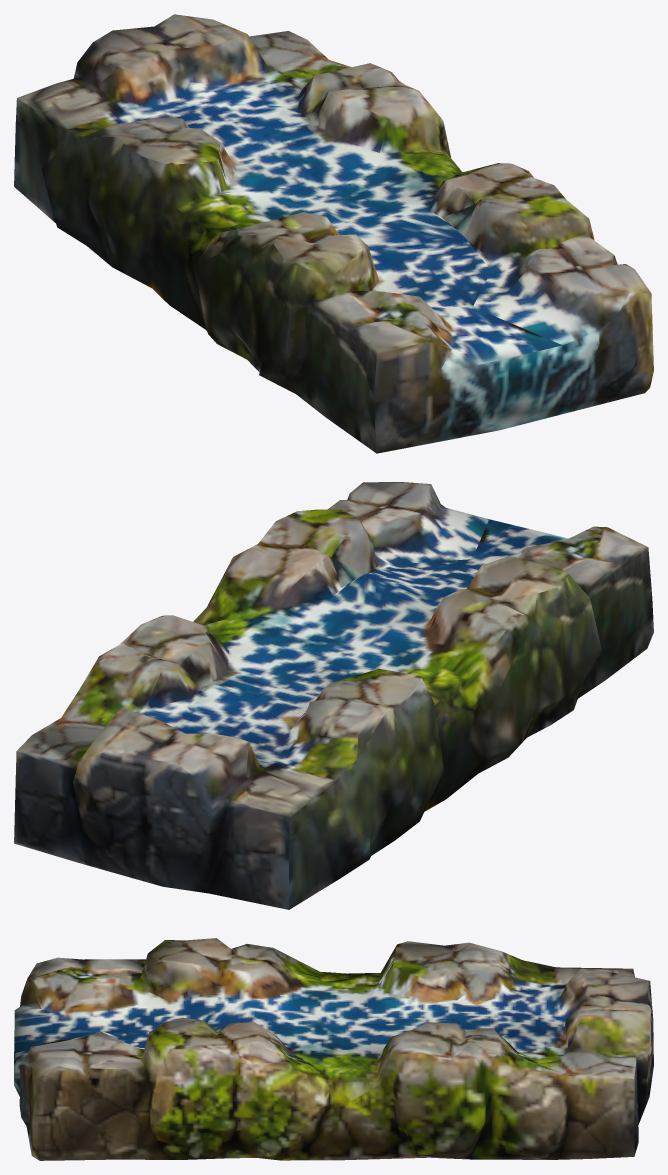
File: SummerDecor_BossRoom_WaterChannel.fbx
The picture shows the model from 3 angles, top to bottom: view 1: azimuth 30°, elevation 25°; view 2: azimuth 150°, elevation 25°; view 3: azimuth 270°, elevation 25°; orthographic projection. The views are drawn at different scales.
Parts seen in each view (by area): view 1: SummerDecor_BossRoom_WaterChannel_Mesh; view 2: SummerDecor_BossRoom_WaterChannel_Mesh; view 3: SummerDecor_BossRoom_WaterChannel_Mesh.
Boxes of the visible parts, bbox=[...] form: SummerDecor_BossRoom_WaterChannel_Mesh: bbox=[14, 14, 653, 453]; SummerDecor_BossRoom_WaterChannel_Mesh: bbox=[14, 482, 653, 909]; SummerDecor_BossRoom_WaterChannel_Mesh: bbox=[14, 938, 653, 1160].
Size of the model in its own units: 2.89 by 1.17 by 6.
Materials: 1 (1 with a texture image).
